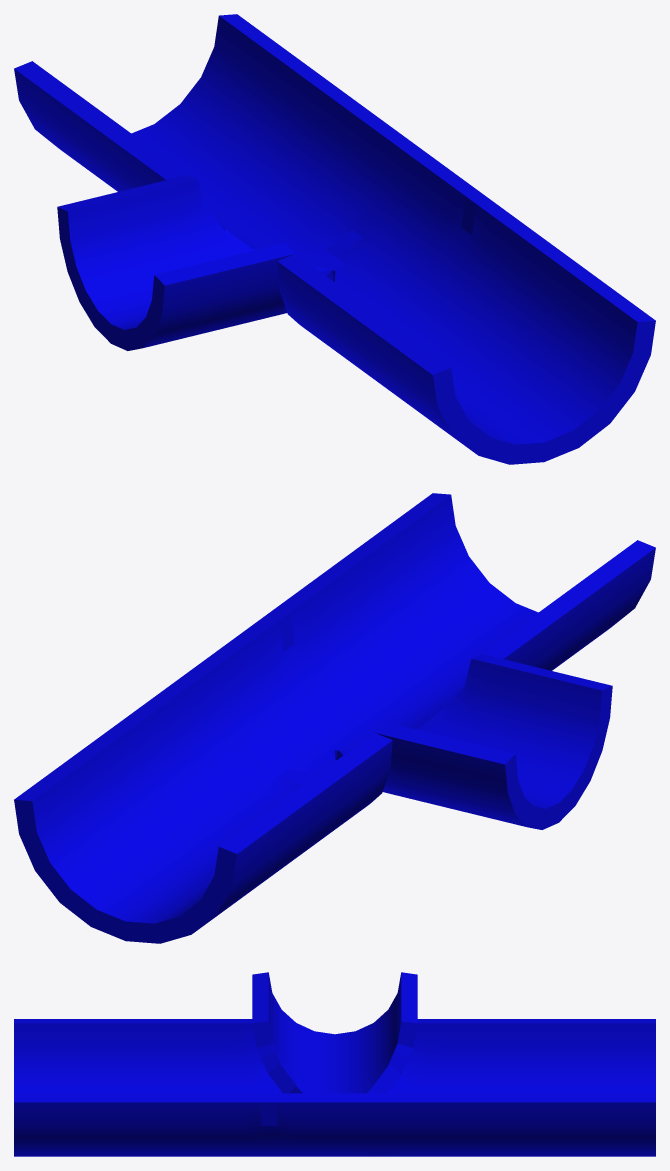
File: Vessel_Vein_Tee.fbx
3 views of the same model, one above another, from view 1: azimuth 30°, elevation 25°; view 2: azimuth 150°, elevation 25°; view 3: azimuth 270°, elevation 25° (orthographic). The views are drawn at different scales.
Parts seen in each view (by area): view 1: pPipe136; view 2: pPipe136; view 3: pPipe136.
Part boxes in pixels (x1,y1,x2,y2): pPipe136: [14, 14, 655, 464]; pPipe136: [14, 493, 655, 943]; pPipe136: [14, 972, 655, 1156].
Bounding box in the file's own units: 4.51 × 1.55 × 9.75.
